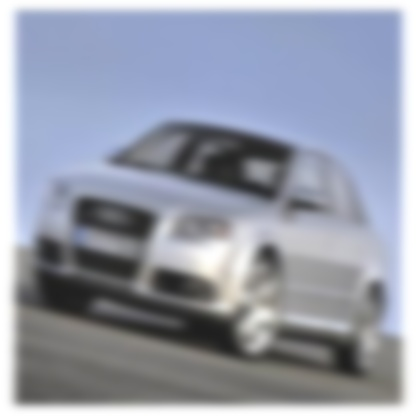Vehicle: (31, 116, 392, 382)
